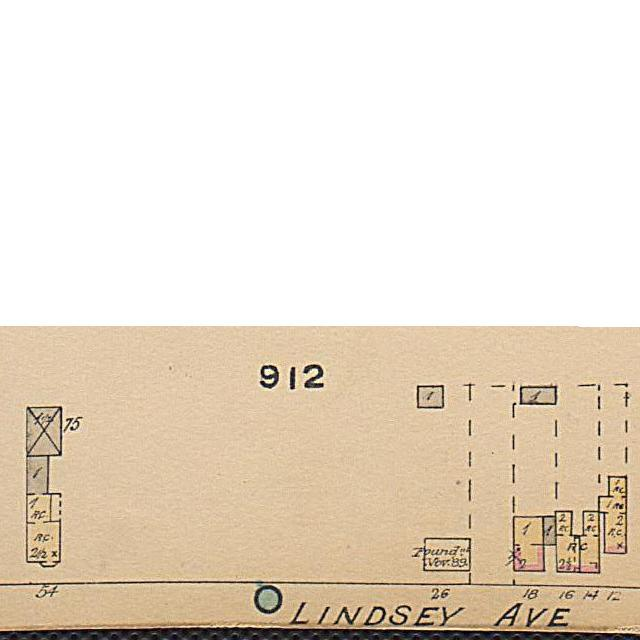building-footprints: (26, 456, 61, 567), (599, 477, 626, 554), (27, 407, 61, 456), (514, 517, 544, 571), (424, 538, 471, 571), (556, 511, 580, 572), (579, 512, 600, 573), (521, 387, 557, 405), (417, 386, 443, 407), (543, 516, 557, 546)
